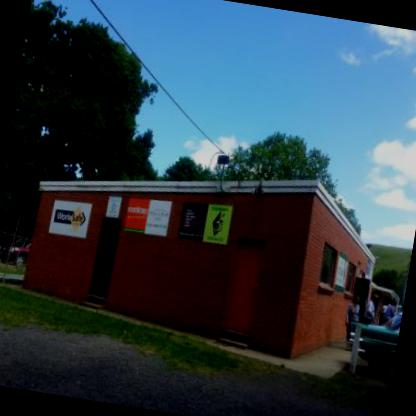car: (340, 300, 402, 384), (0, 229, 32, 267), (0, 235, 4, 258)
